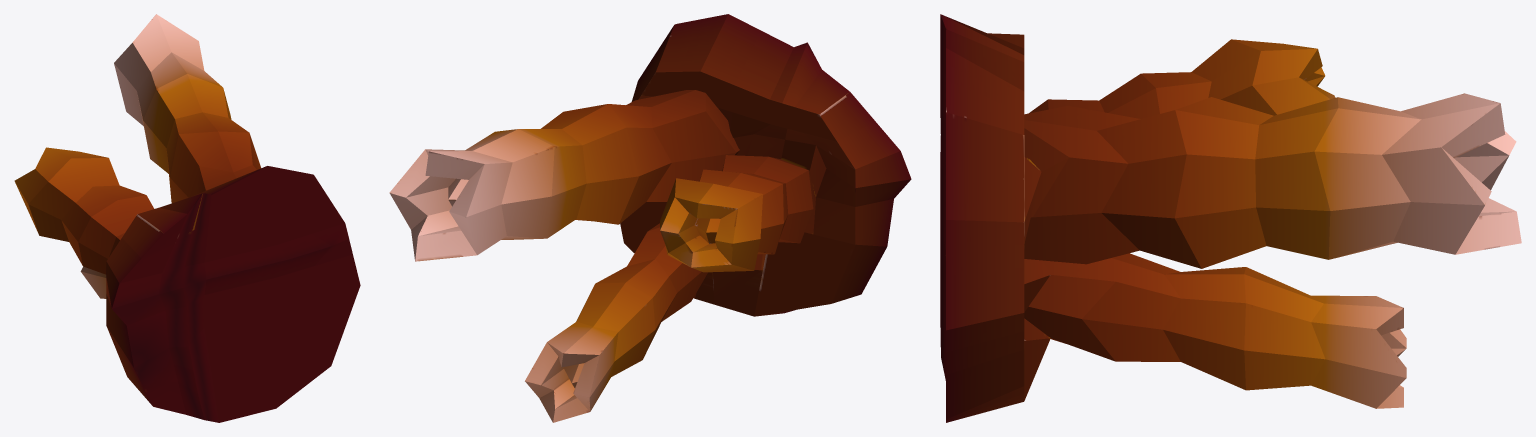
File: TubeCoral.fbx
3 renders of one model, left to right at view 1: azimuth 30°, elevation 25°; view 2: azimuth 150°, elevation 25°; view 3: azimuth 270°, elevation 25°, orthographic. The views are drawn at different scales.
Parts seen in each view (by area): view 1: Cube.001; view 2: Cube.001; view 3: Cube.001.
Part boxes in pixels (x1,y1,x2,y2): Cube.001: [14, 14, 360, 422]; Cube.001: [389, 14, 911, 422]; Cube.001: [940, 14, 1521, 422].
Size of the model in its own units: 62.62 by 54.66 by 78.02.
